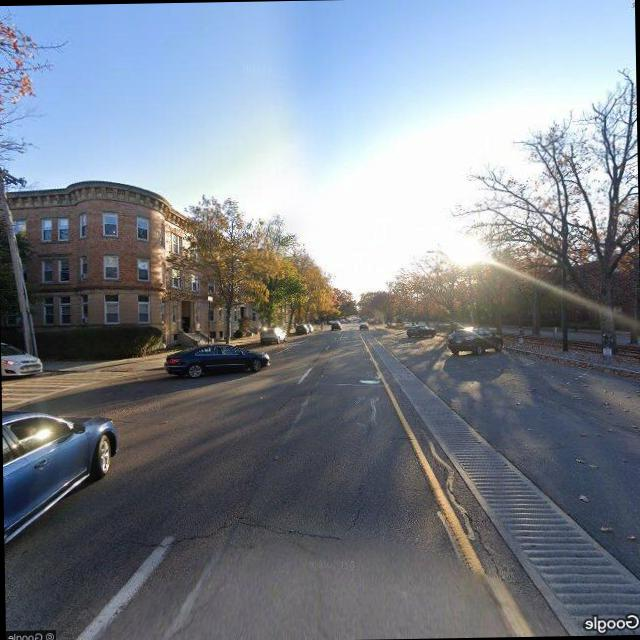crack: (118, 508, 347, 550)
